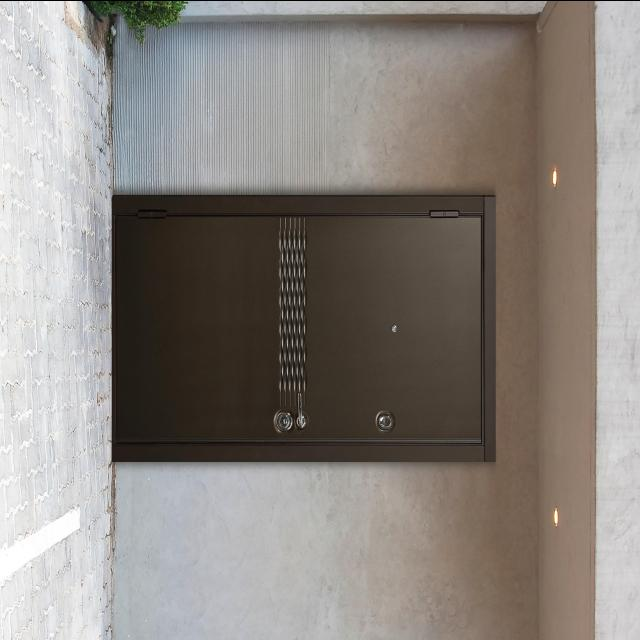close: (110, 189, 492, 457)
